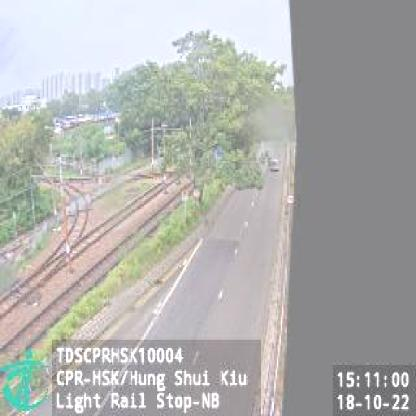Car: (270, 157, 281, 173)
